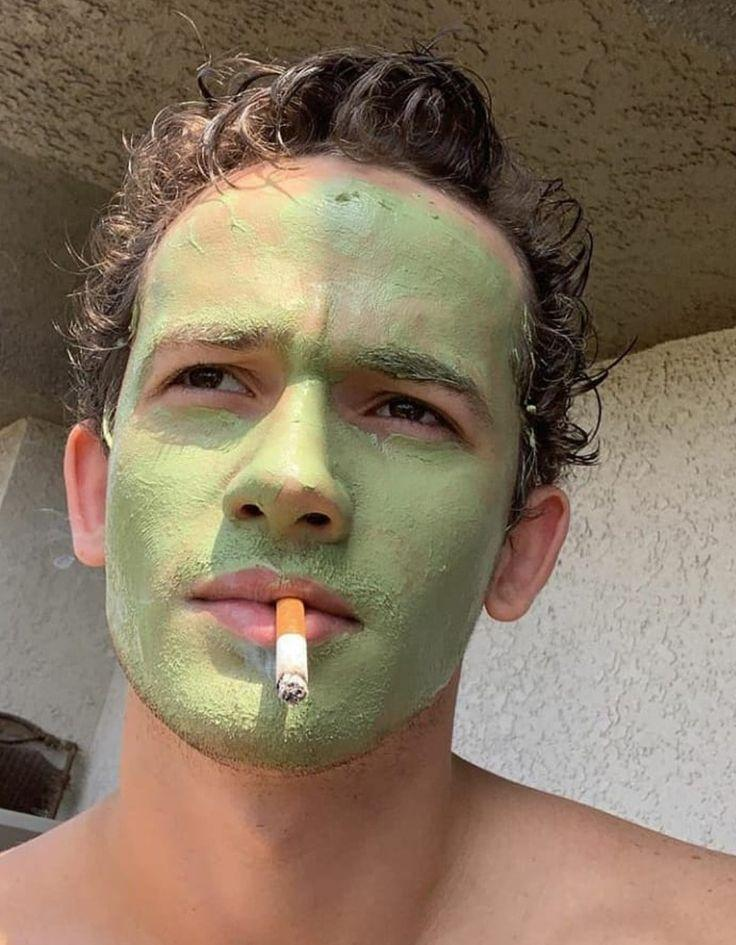cigarette: (274, 597, 310, 706)
